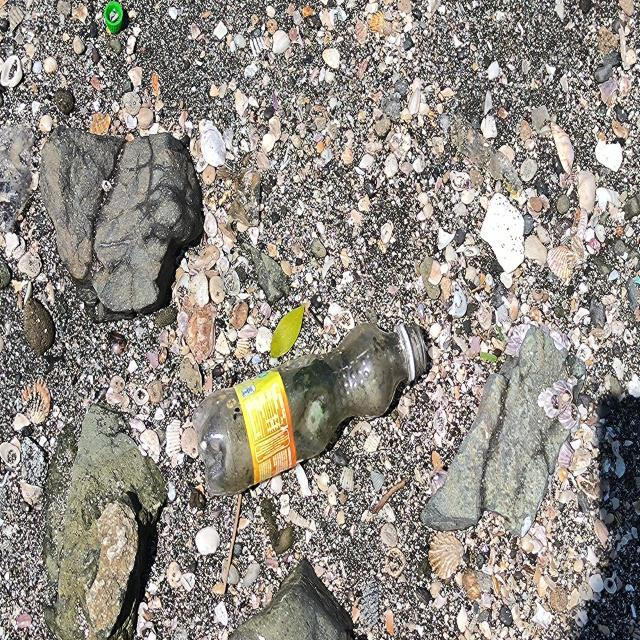plastic_waste: (197, 323, 427, 498)
